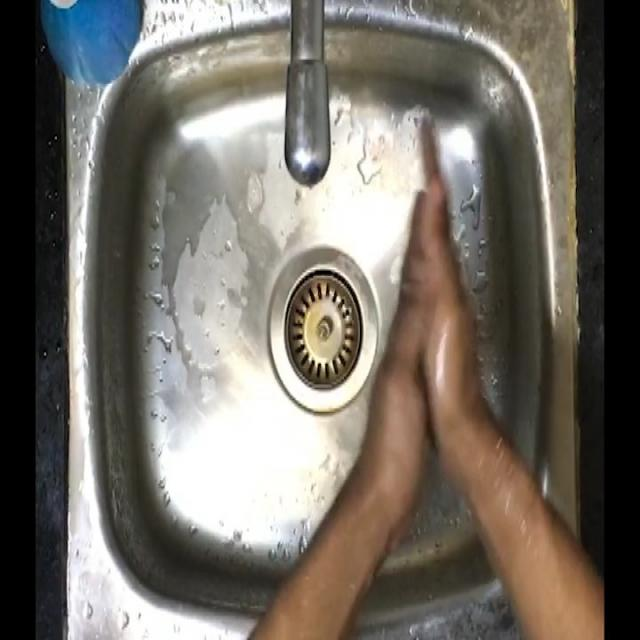step_1: (362, 100, 484, 438)
